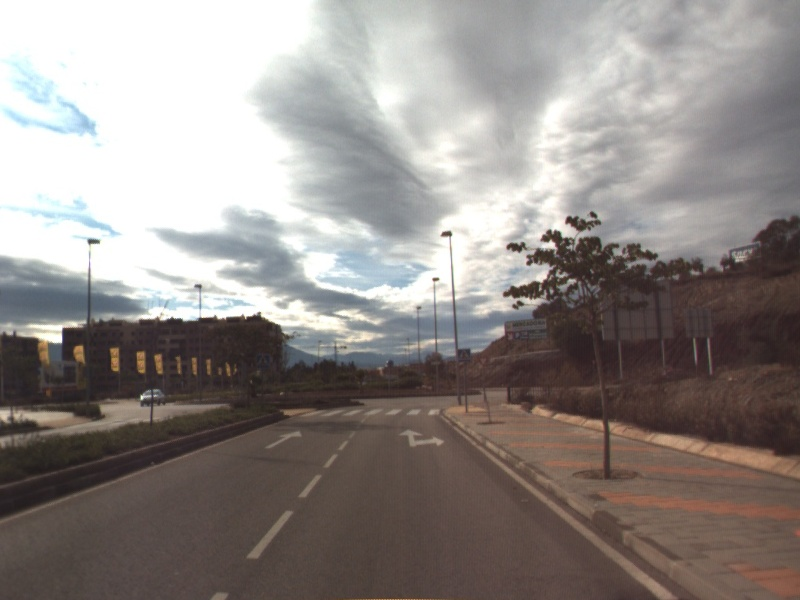STRAIGHT: (263, 429, 304, 450)
STRAIGHT_RIGHT: (397, 426, 447, 449)
